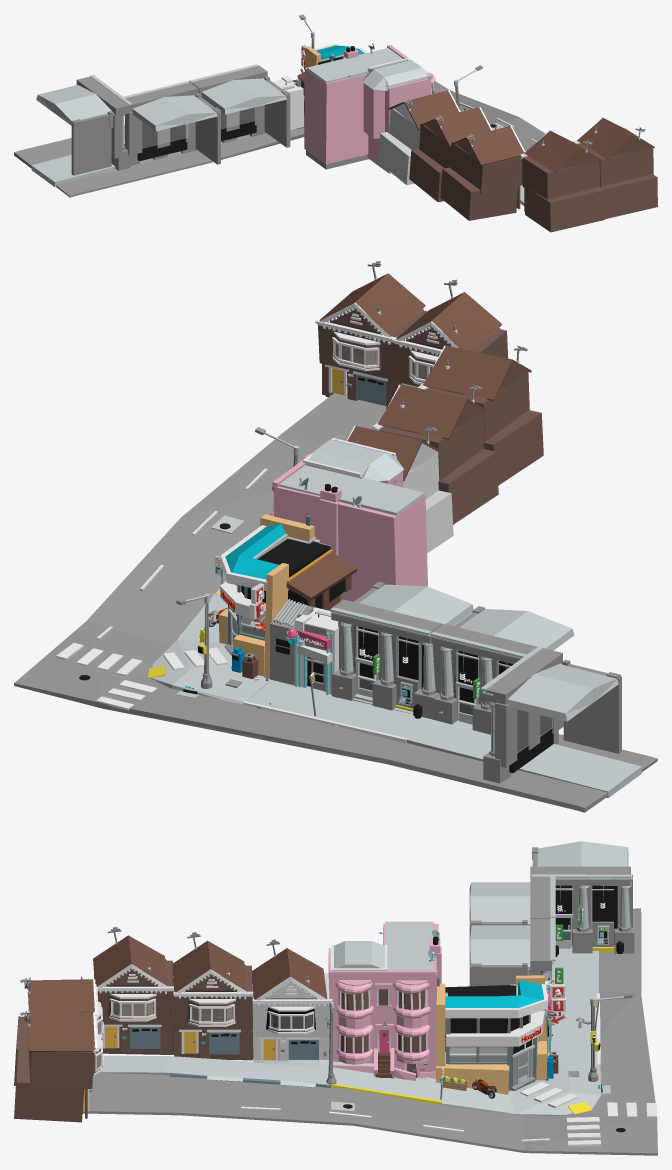
File: HospitalFinal1.glb
3 views of the same model, one above another, from view 1: azimuth 30°, elevation 25°; view 2: azimuth 150°, elevation 25°; view 3: azimuth 270°, elevation 25° (orthographic). The views are drawn at different scales.
Parts seen in each view (by area): view 1: group892455447, group1855824391, group2035824112.003, group2035824112.002, group925039765.003, group1198833697.002, group925039765.002, group522730016.001, group522730016, group2035824112.004, group522730016.002, group925039765.004 (+29 smaller); view 2: group892455447, group1179754258, group1855824391, group1105155231, group522730016.002, group1933068889, group642993051.001, group642993051.002, group522730016.001, group522730016, group1198833697.002, group2035824112.001 (+32 smaller); view 3: group892455447, group1105155231, group1179754258, group1583477956, group2035824112.004, group1667746924.004, group522730016, group522730016.001, group925039765.004, group1933068889, group1667746924.003, group522730016.002 (+44 smaller).
Boxes of the visible parts, x1,y1,x2,y2 form: group892455447: (14,81,545,197); group1855824391: (304,67,368,164); group2035824112.003: (524,187,604,232); group2035824112.002: (440,167,518,220); group925039765.003: (522,156,599,199); group1198833697.002: (71,113,111,175); group925039765.002: (450,141,522,193); group522730016.001: (132,95,217,131); group522730016: (201,78,286,114); group2035824112.004: (599,174,657,219); group522730016.002: (36,85,114,125); group925039765.004: (577,143,653,186); group892455447: (14,393,657,812); group1179754258: (246,680,641,797); group1855824391: (337,494,427,601); group1105155231: (150,593,270,704); group522730016.002: (507,663,618,721); group1933068889: (279,465,424,515); group642993051.001: (378,384,467,439); group642993051.002: (423,345,512,400); group522730016.001: (459,609,574,650); group522730016: (359,584,473,626); group1198833697.002: (563,664,621,753); group2035824112.001: (438,449,498,524); group892455447: (82,908,657,1155); group1105155231: (100,1055,601,1116); group1179754258: (547,945,598,1064); group1583477956: (328,948,436,1076); group2035824112.004: (14,1049,84,1122); group1667746924.004: (27,1013,94,1051); group522730016: (469,925,530,970); group522730016.001: (469,882,530,925); group925039765.004: (28,1048,94,1088); group1933068889: (385,921,433,970); group1667746924.003: (27,980,94,1013); group522730016.002: (537,841,628,866).
Bounding box in the file's own units: 9.04 × 2.46 × 9.88.
39 materials, 1 textured.
